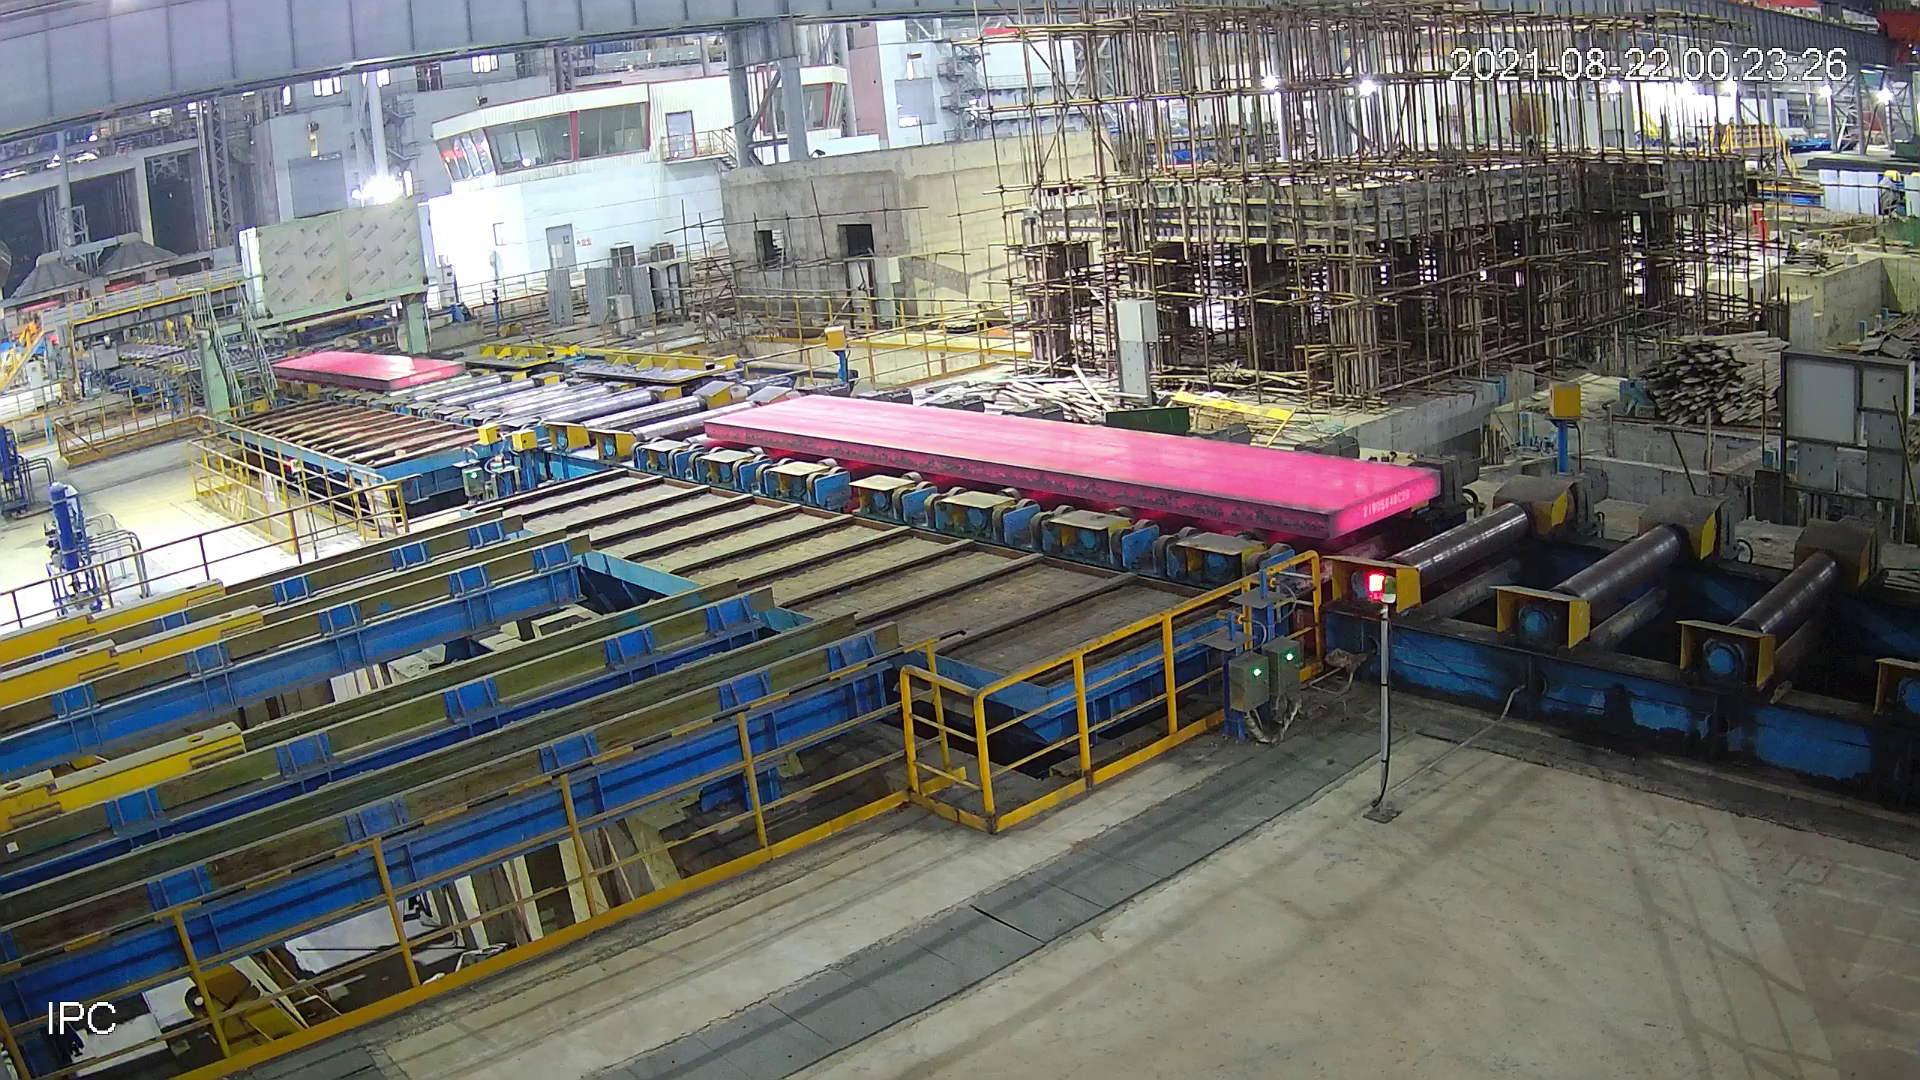crane: (1138, 1, 1325, 117)
craneandslab: (520, 57, 1250, 649)
slab: (1366, 218, 1625, 305)
